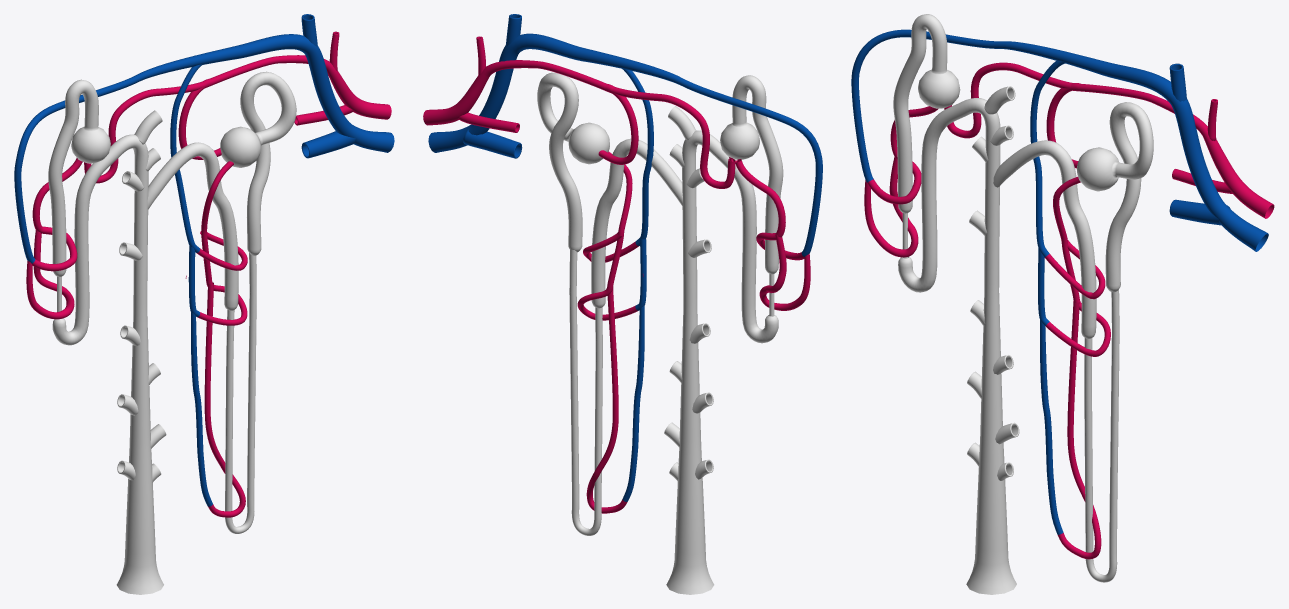
Rendered from nephron.fbx.
3 views of the same model, side by side, from view 1: azimuth 30°, elevation 25°; view 2: azimuth 150°, elevation 25°; view 3: azimuth 330°, elevation 25° (orthographic). The views are drawn at different scales.
Visible parts, largest first — view 1: BézierCurve.005, BézierCurve.012, BézierCurve.003, BézierCurve, BézierCurve.008, BézierCurve.004, BézierCurve.001, BézierCurve.006, BézierCurve.009, BézierCurve.015, BézierCurve.010; view 2: BézierCurve.005, BézierCurve.012, BézierCurve.003, BézierCurve, BézierCurve.001, BézierCurve.008, BézierCurve.004, BézierCurve.006, BézierCurve.009, BézierCurve.015, BézierCurve.010, BézierCurve.013; view 3: BézierCurve.005, BézierCurve.012, BézierCurve.003, BézierCurve, BézierCurve.008, BézierCurve.001, BézierCurve.004, BézierCurve.006, BézierCurve.009, BézierCurve.015, BézierCurve.010.
Part boxes in pixels (x1,y1,x2,y2): BézierCurve.005: (52,134,163,594); BézierCurve.012: (14,34,394,271); BézierCurve.003: (170,64,247,517); BézierCurve: (220,71,296,255); BézierCurve.008: (48,79,110,276); BézierCurve.004: (225,253,256,533); BézierCurve.001: (84,55,391,183); BézierCurve.006: (147,142,238,310); BézierCurve.009: (117,110,166,482); BézierCurve.015: (26,230,74,319); BézierCurve.010: (301,131,355,158); BézierCurve.005: (666,130,778,594); BézierCurve.012: (428,33,822,260); BézierCurve.003: (577,68,653,513); BézierCurve: (537,72,609,252); BézierCurve.001: (423,60,735,188); BézierCurve.008: (720,75,783,274); BézierCurve.004: (569,249,602,535); BézierCurve.006: (591,138,682,308); BézierCurve.009: (664,106,713,481); BézierCurve.015: (759,235,810,310); BézierCurve.010: (463,129,522,158); BézierCurve.013: (458,112,519,132); BézierCurve.005: (898,98,1016,594); BézierCurve.012: (851,29,1268,251); BézierCurve.003: (1030,60,1110,559); BézierCurve: (1076,102,1153,292); BézierCurve.008: (893,14,960,213); BézierCurve.001: (944,62,1274,218); BézierCurve.004: (1084,289,1119,582); BézierCurve.006: (993,140,1096,338); BézierCurve.009: (967,86,1019,480); BézierCurve.015: (864,157,918,257); BézierCurve.010: (1169,199,1230,225).
Size of the model in its own units: 306 by 399 by 32.88.
